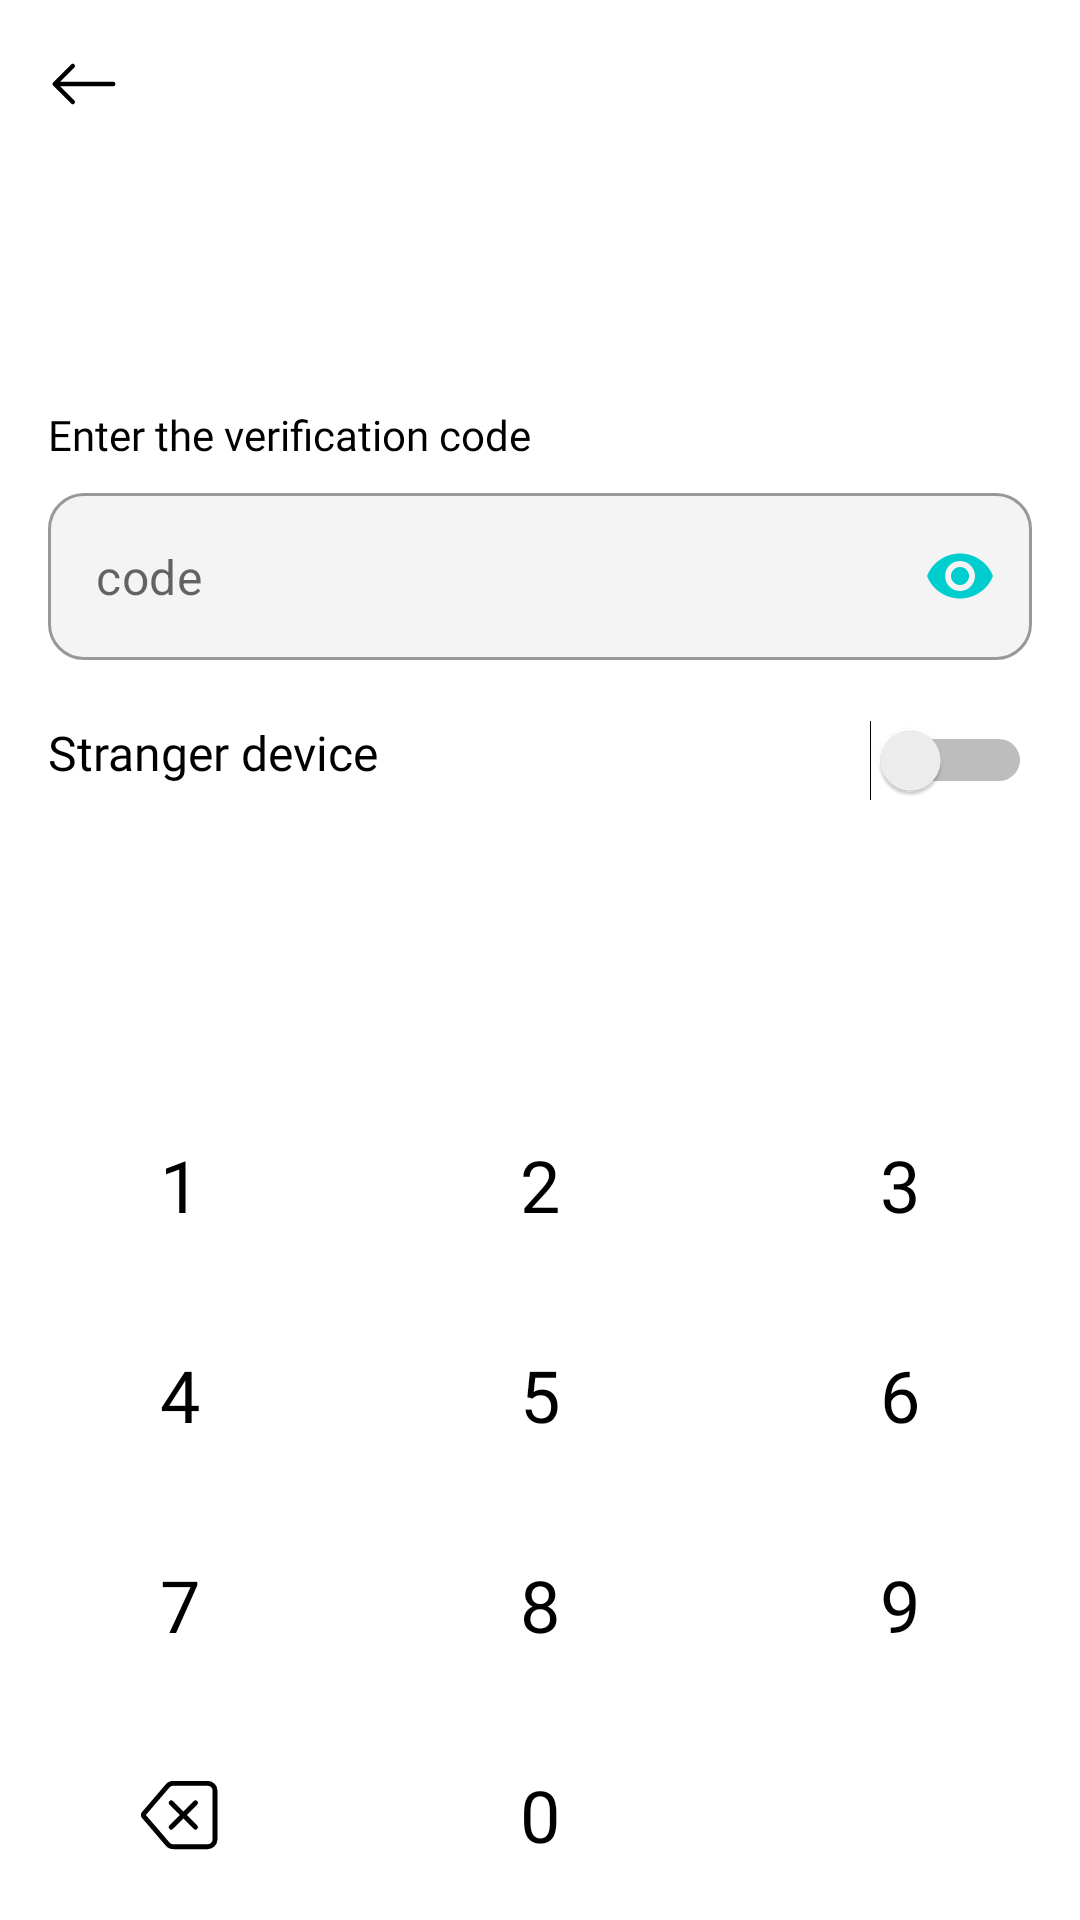

Icons on this 1080 × 1920 Android screen, each with its box as box=[x1, y1, x2, y2]:
back: box=[52, 63, 116, 105]
backspace: box=[141, 1781, 218, 1850]
